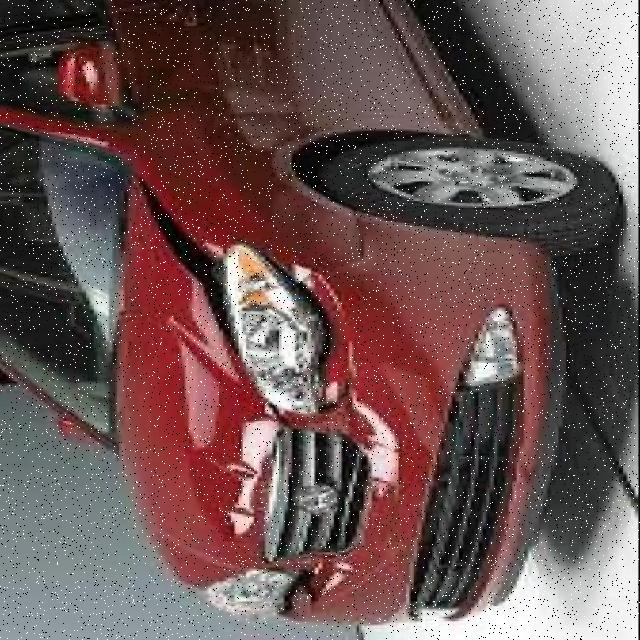damage: (134, 175, 418, 609)
